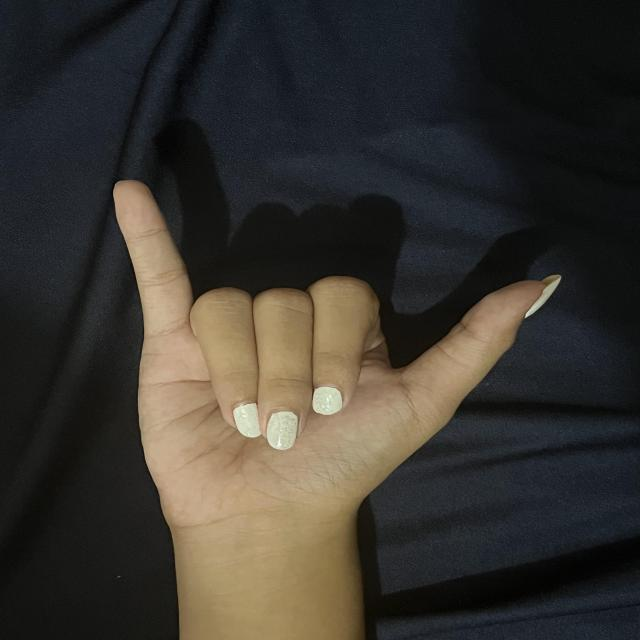Y: (110, 173, 558, 504)
